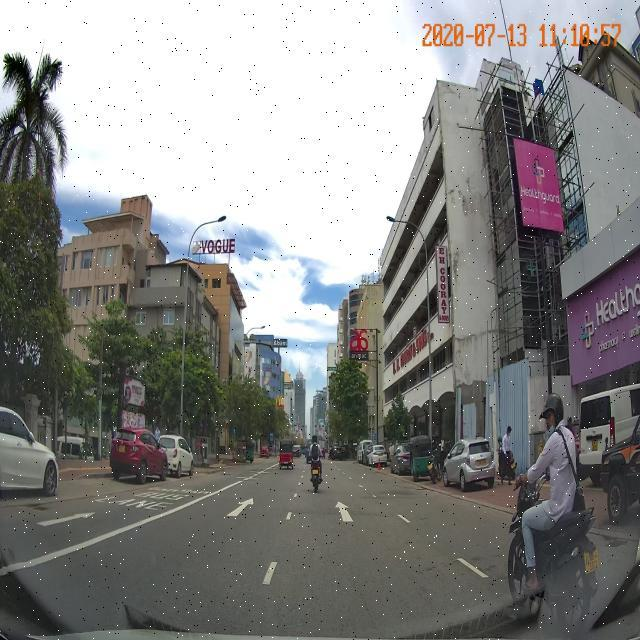forward: (140, 487, 297, 548), (279, 489, 415, 529)
